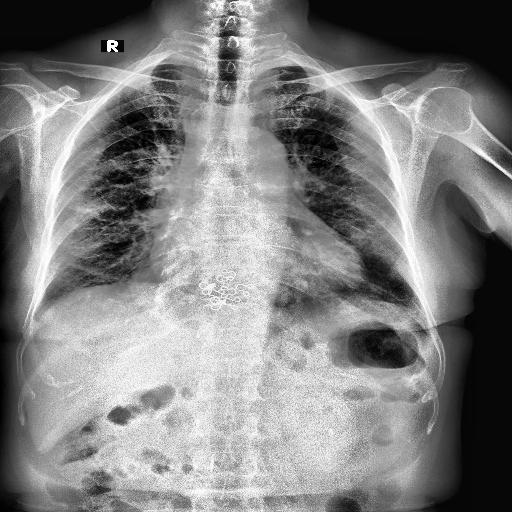0- Aortic enlargement: (226, 122, 290, 182), (240, 126, 293, 190), (230, 126, 290, 174)
13- Pulmonary fibrosis: (49, 142, 117, 268)
3- Cardiomegaly: (150, 224, 367, 296), (149, 231, 368, 297), (148, 258, 370, 298)
5- ILD: (49, 130, 149, 290), (49, 142, 117, 268)
7- Lung Opacity: (343, 212, 414, 282)
